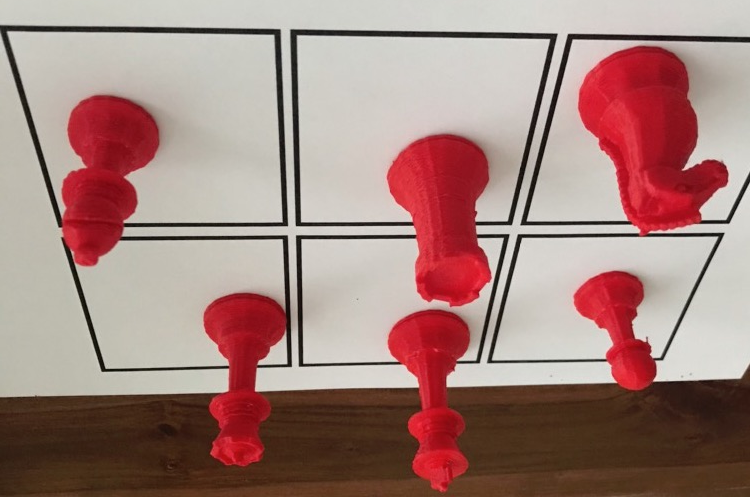Red Bishop: (46, 87, 164, 271)
Red Castle: (381, 126, 517, 311)
Red King: (374, 306, 491, 497)
Red Knight: (569, 36, 737, 245)
Red Pawn: (561, 269, 668, 395)
Red Queen: (186, 281, 291, 479)
